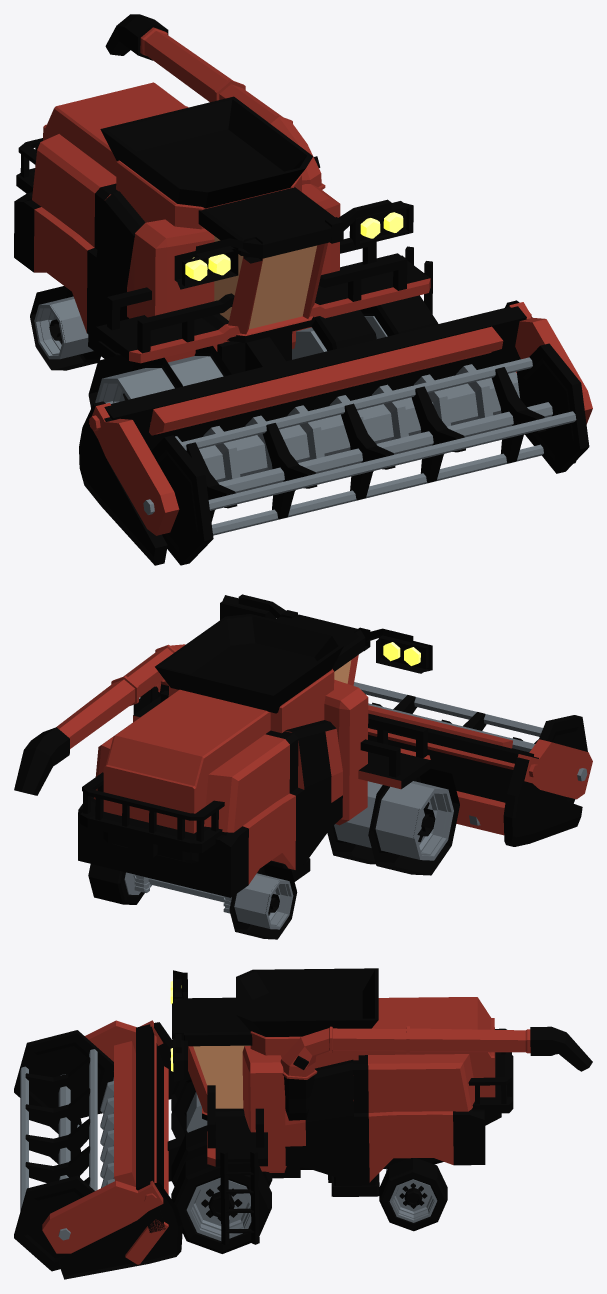
File: harvestor.gltf
3 renders of one model, top to bottom at view 1: azimuth 30°, elevation 25°; view 2: azimuth 150°, elevation 25°; view 3: azimuth 270°, elevation 25°, orthographic. The views are drawn at different scales.
Visible parts, largest first — view 1: Cube.026; view 2: Cube.026; view 3: Cube.026.
Part boxes in pixels (x1,y1,x2,y2): Cube.026: (14, 14, 592, 565); Cube.026: (14, 594, 592, 939); Cube.026: (14, 968, 592, 1279).
Size of the model in its own units: 507 by 286 by 735.
